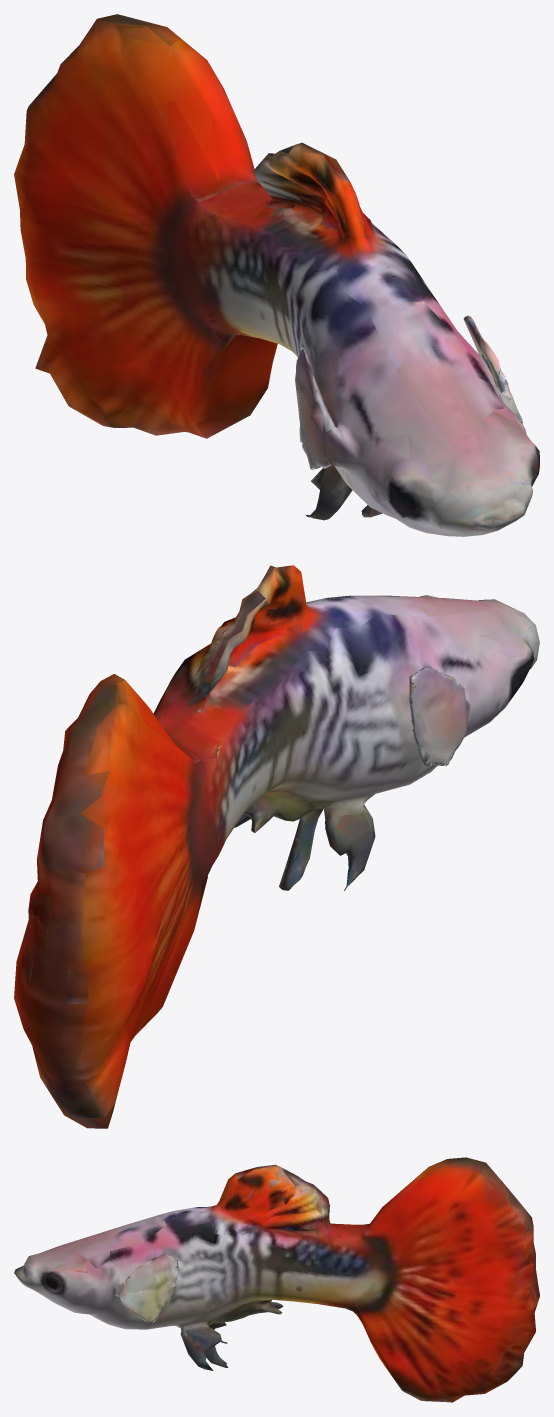
File: strain-red_cobra.lo.glb
3 views of the same model, one above another, from view 1: azimuth 30°, elevation 25°; view 2: azimuth 150°, elevation 25°; view 3: azimuth 270°, elevation 25° (orthographic). The views are drawn at different scales.
Visible parts, largest first — view 1: Mesh_0.001; view 2: Mesh_0.001; view 3: Mesh_0.001.
Part boxes in pixels (bbox=[...]): Mesh_0.001: bbox=[14, 14, 539, 536]; Mesh_0.001: bbox=[14, 565, 539, 1128]; Mesh_0.001: bbox=[14, 1157, 539, 1402].
Bounding box in the file's own units: 0.00806 × 0.0168 × 0.0339.
Materials: 2 (2 with a texture image).
